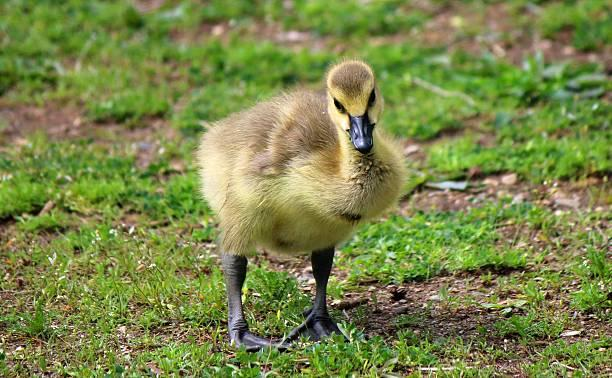Canadian-Goose: (204, 61, 402, 347)
